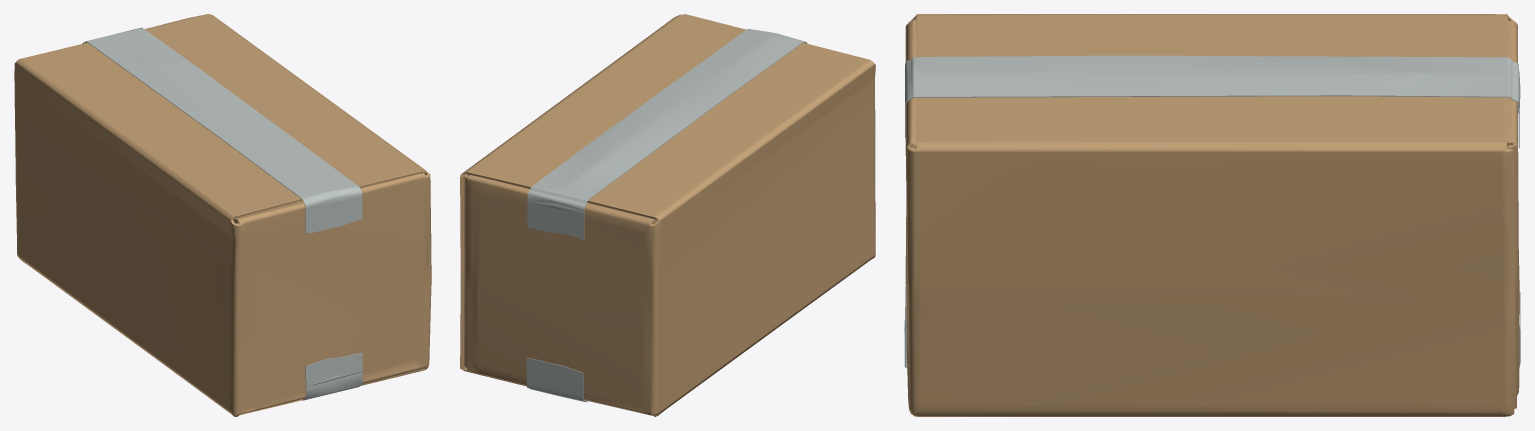
The model's file is box_long_a12.glb.
3 views of the same model, side by side, from view 1: azimuth 30°, elevation 25°; view 2: azimuth 150°, elevation 25°; view 3: azimuth 270°, elevation 25° (orthographic). The views are drawn at different scales.
Bounding box in the file's own units: 0.1069 × 0.1069 × 0.2065.
